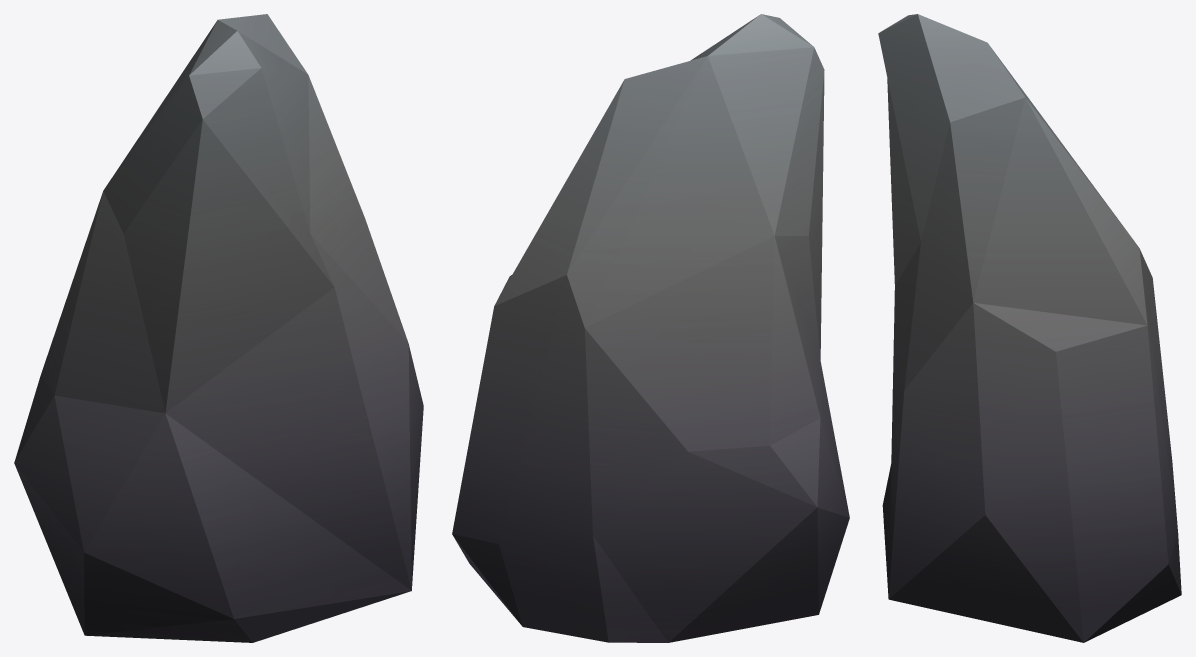
Rendered from Gradient_Boulder_03.glb.
3 views of the same model, side by side, from view 1: azimuth 30°, elevation 25°; view 2: azimuth 150°, elevation 25°; view 3: azimuth 270°, elevation 25° (orthographic). The views are drawn at different scales.
Parts seen in each view (by area): view 1: Boulder 03 g; view 2: Boulder 03 g; view 3: Boulder 03 g.
Boxes of the visible parts, left/top/right/bottom form: Boulder 03 g: left=14, top=14, right=423, bottom=642; Boulder 03 g: left=452, top=14, right=849, bottom=642; Boulder 03 g: left=878, top=14, right=1181, bottom=642.
Size of the model in its own units: 11.31 by 17.65 by 9.01.
Materials: 1 (1 with a texture image).
